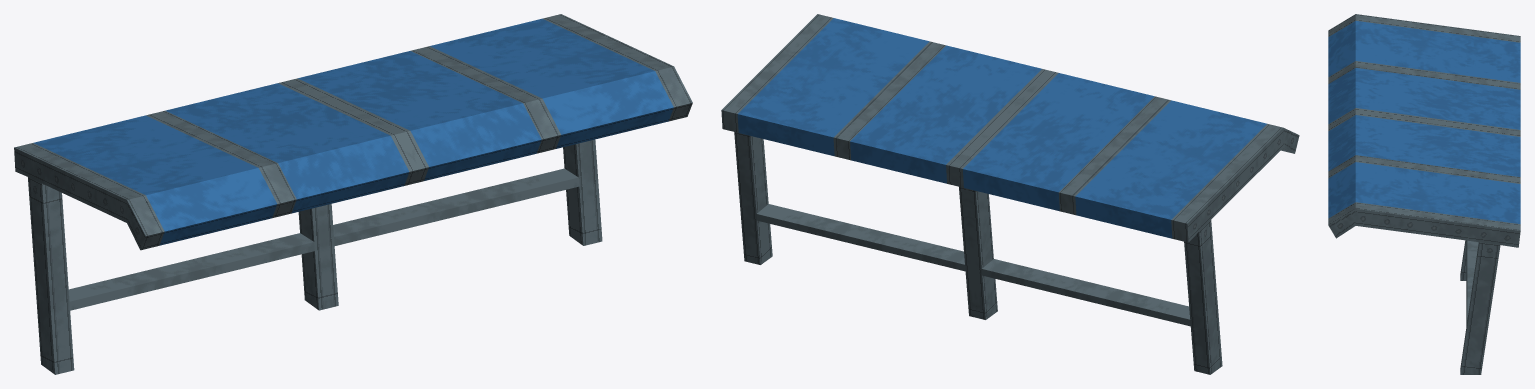
Rendered from shed.glb.
3 views of the same model, side by side, from view 1: azimuth 30°, elevation 25°; view 2: azimuth 150°, elevation 25°; view 3: azimuth 270°, elevation 25° (orthographic). The views are drawn at different scales.
Parts seen in each view (by area): view 1: Cube; view 2: Cube; view 3: Cube.
Part boxes in pixels (x1,y1,x2,y2): Cube: [14, 14, 692, 374]; Cube: [721, 14, 1299, 374]; Cube: [1328, 14, 1520, 374].
Size of the model in its own units: 2.88 by 1.15 by 1.2.
Materials: 1 (1 with a texture image).
